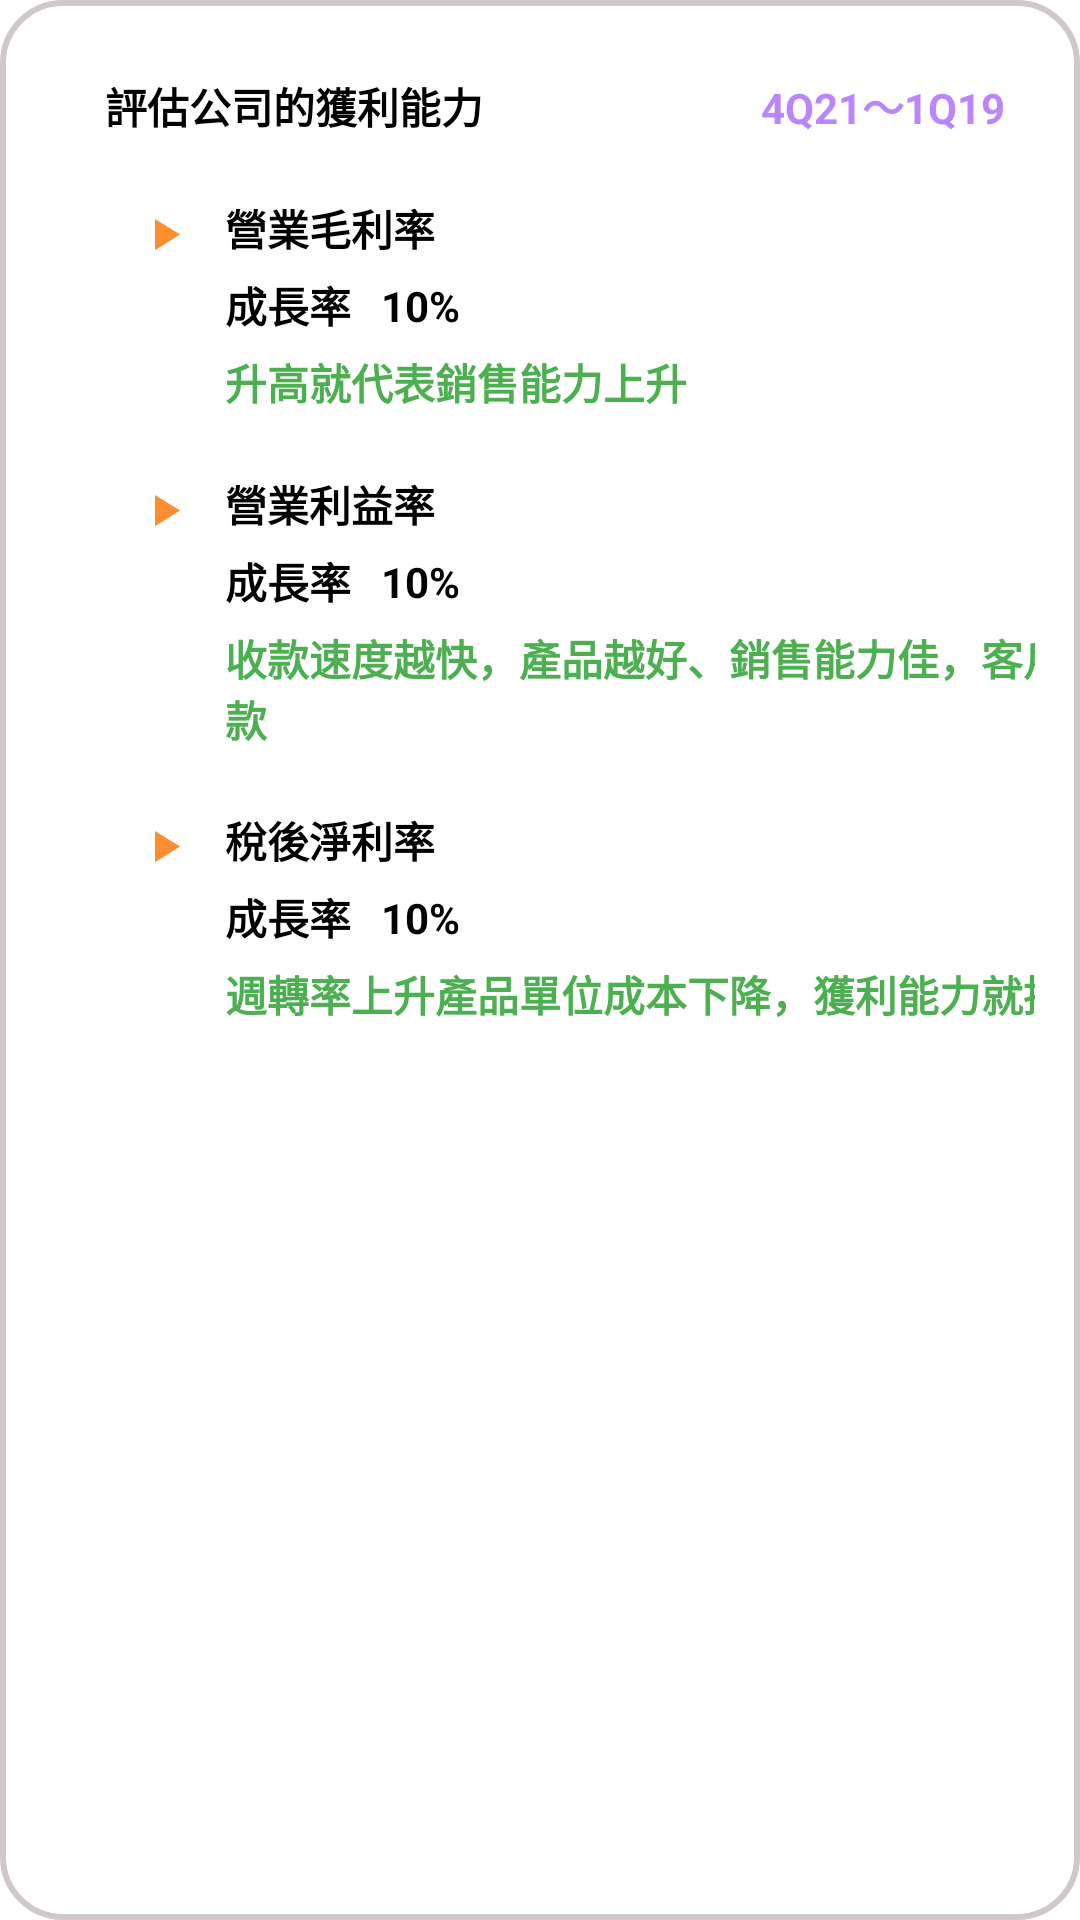

Icon bounding boxes for this 1080w x 1920h phone screenshot, format rect(x1, y1, x2, y2):
arrow right: rect(155, 219, 180, 250), rect(155, 495, 180, 526), rect(155, 831, 180, 862)
